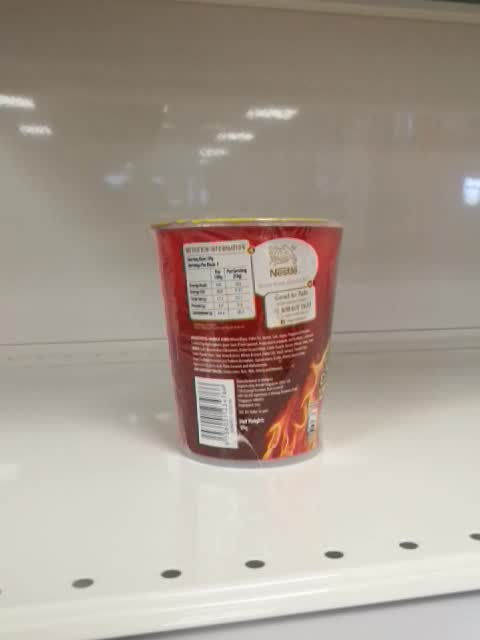maggi: (150, 218, 345, 468)
